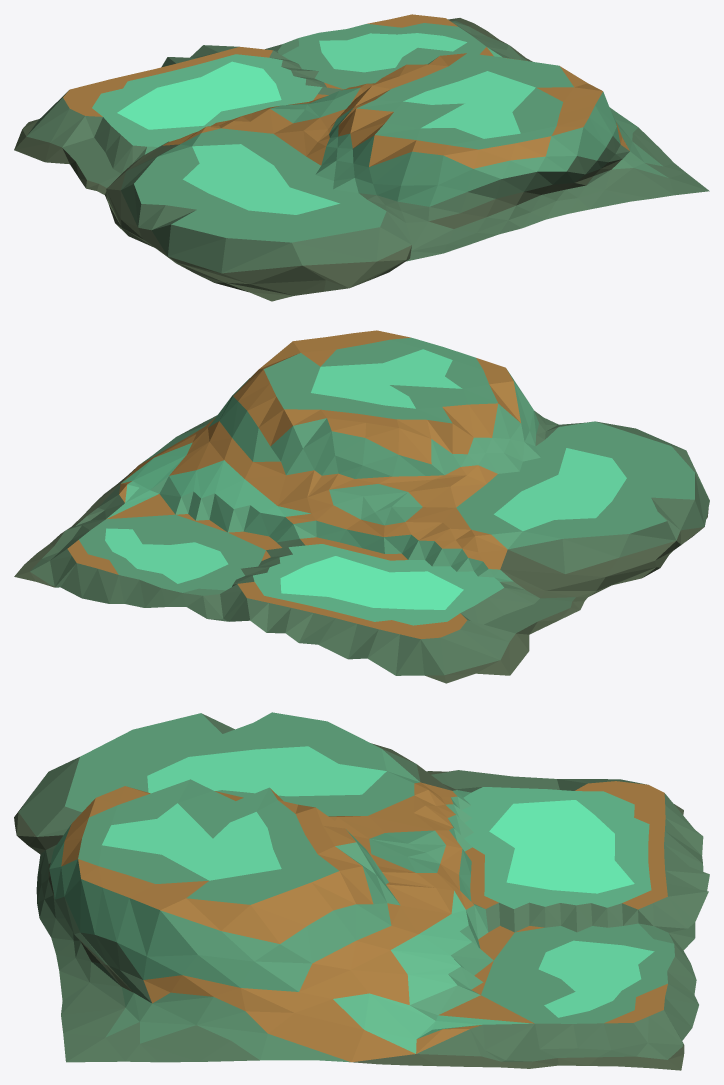
The model's file is Terrain02.fbx.
The picture shows the model from 3 angles, top to bottom: view 1: azimuth 30°, elevation 25°; view 2: azimuth 150°, elevation 25°; view 3: azimuth 270°, elevation 25°; orthographic projection. The views are drawn at different scales.
Visible parts, largest first — view 1: Plane; view 2: Plane; view 3: Plane.
Boxes of the visible parts, x1=… form: Plane: x1=14, y1=14, x2=709, y2=301; Plane: x1=14, y1=330, x2=709, y2=683; Plane: x1=14, y1=712, x2=709, y2=1070.
Bounding box in the file's own units: 118 × 22.08 × 114.
